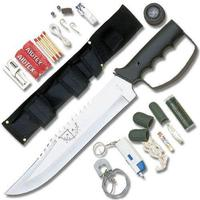knife: (4, 15, 178, 198)
